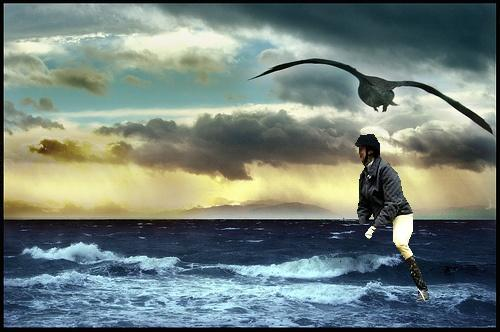tampered: (356, 135, 429, 302)
